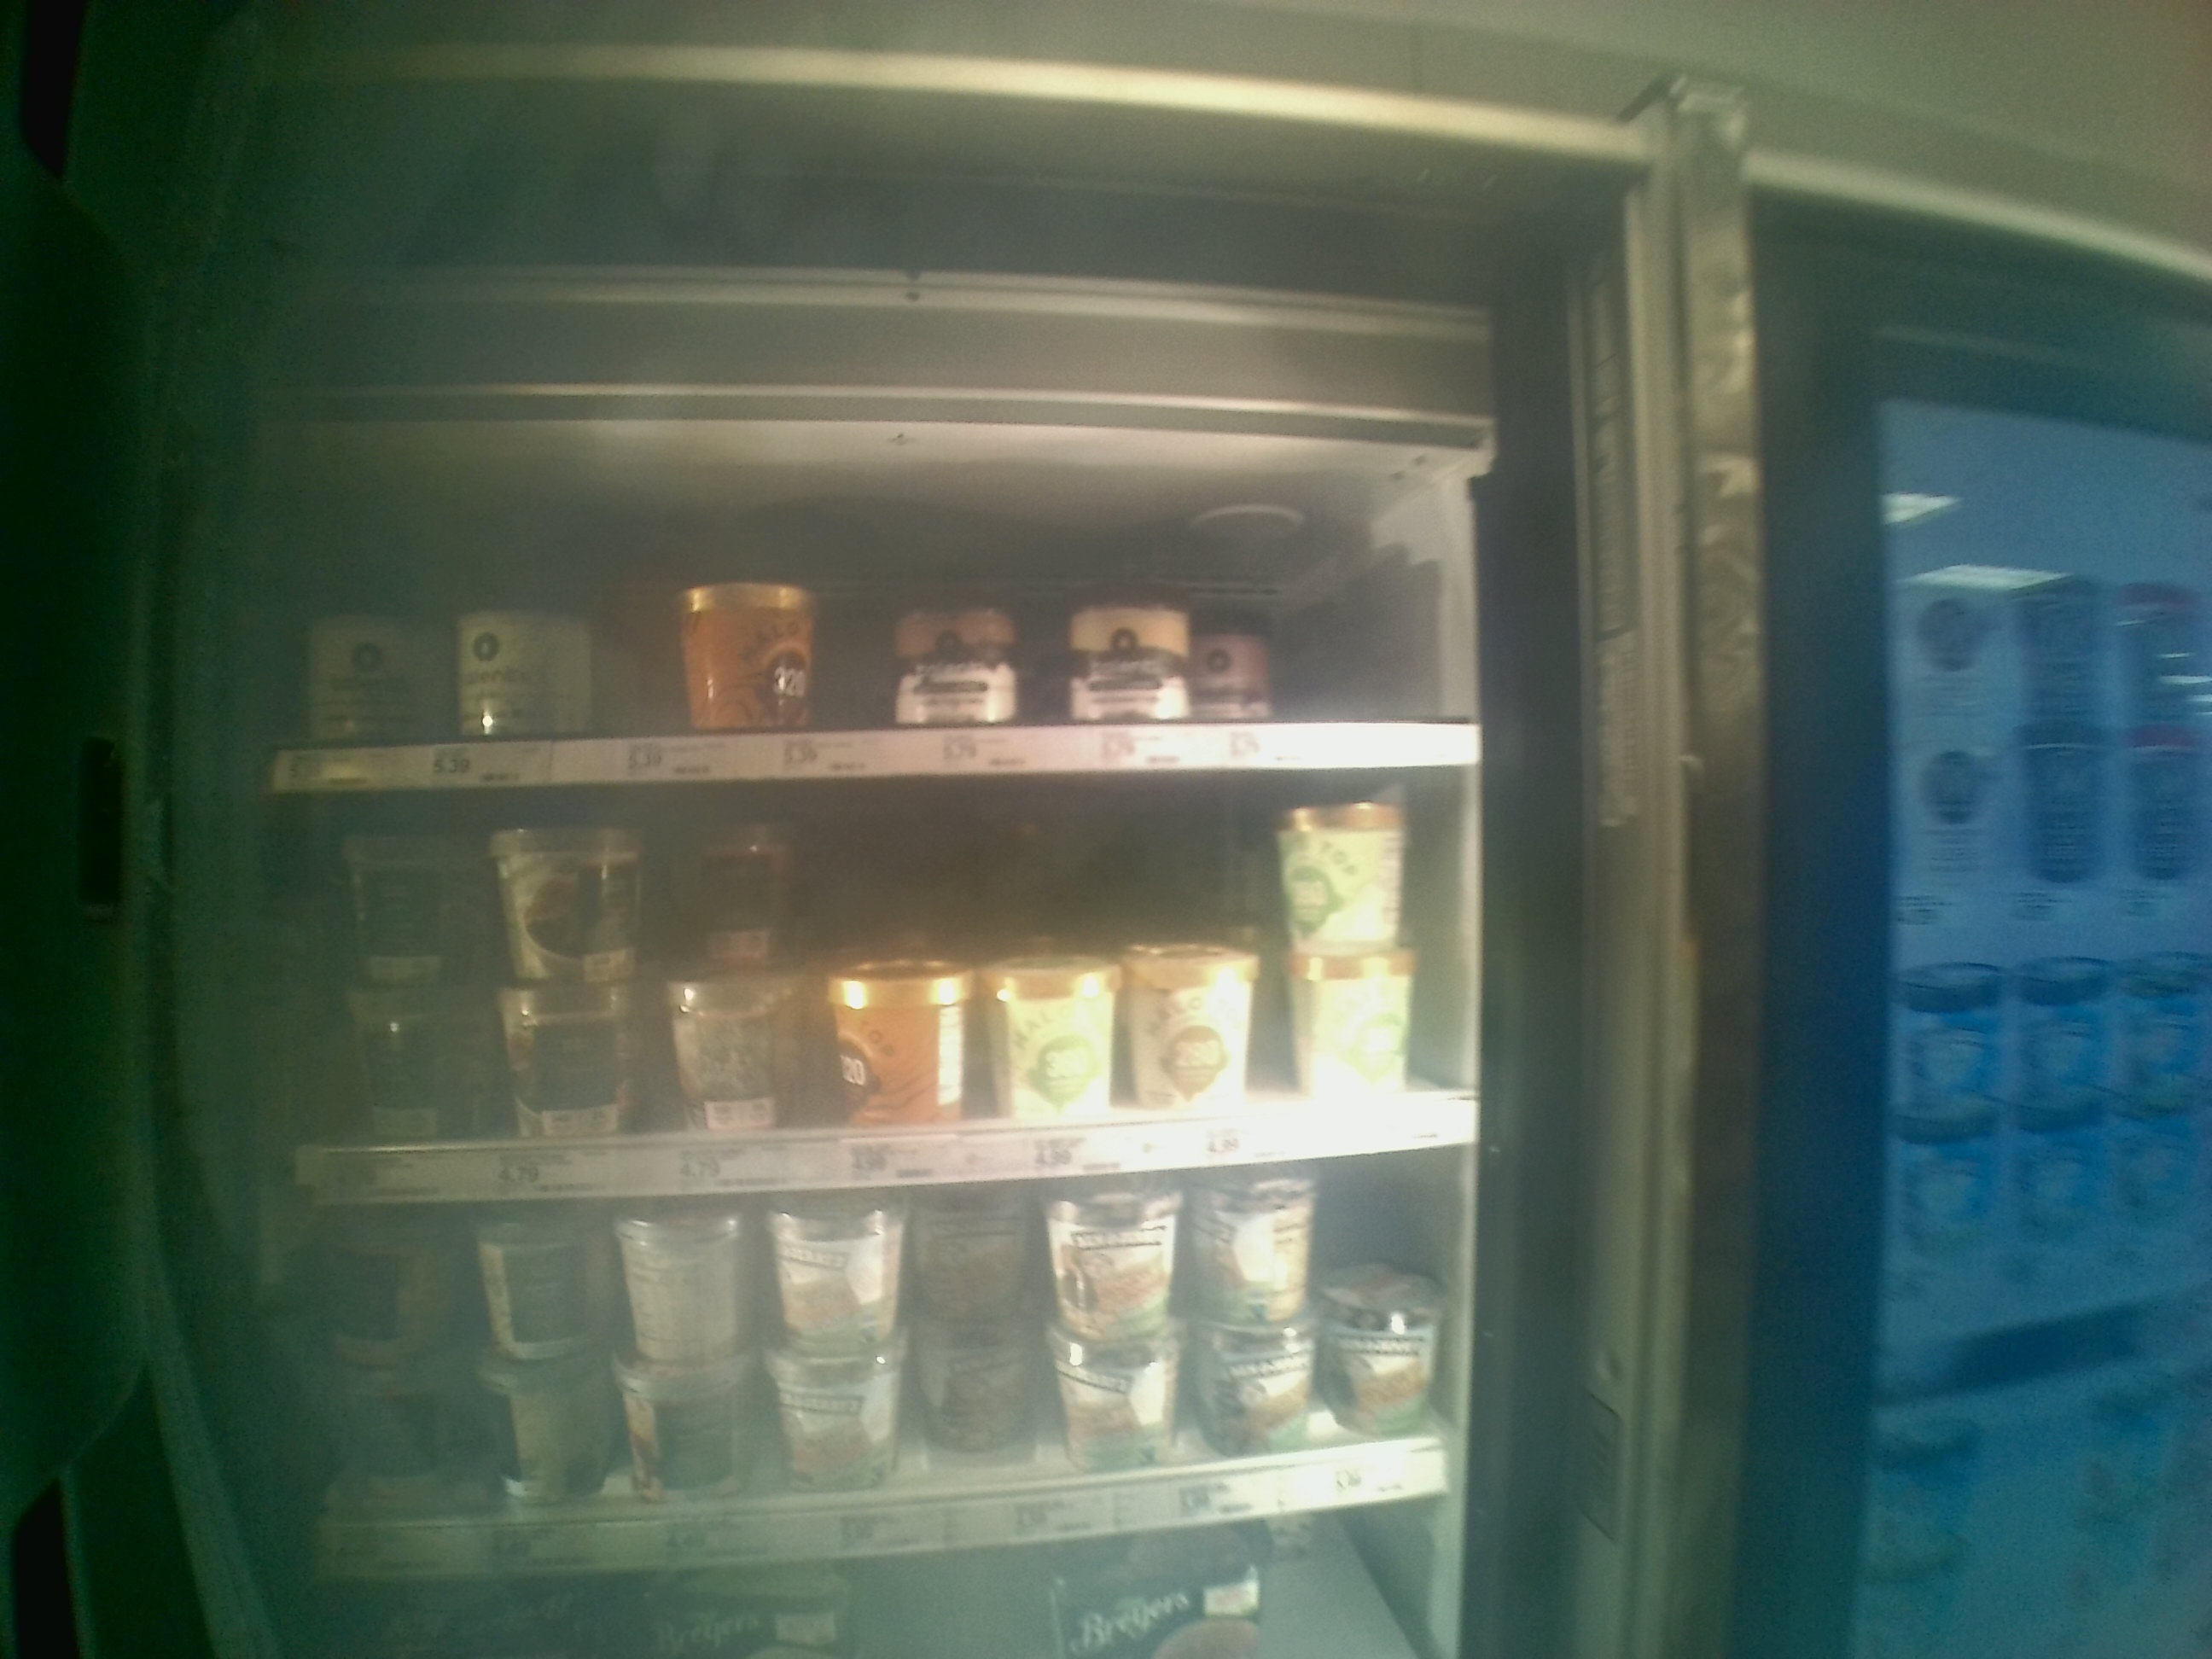ice-cream-shelf: (270, 784, 1480, 1180), (265, 441, 1486, 784)
